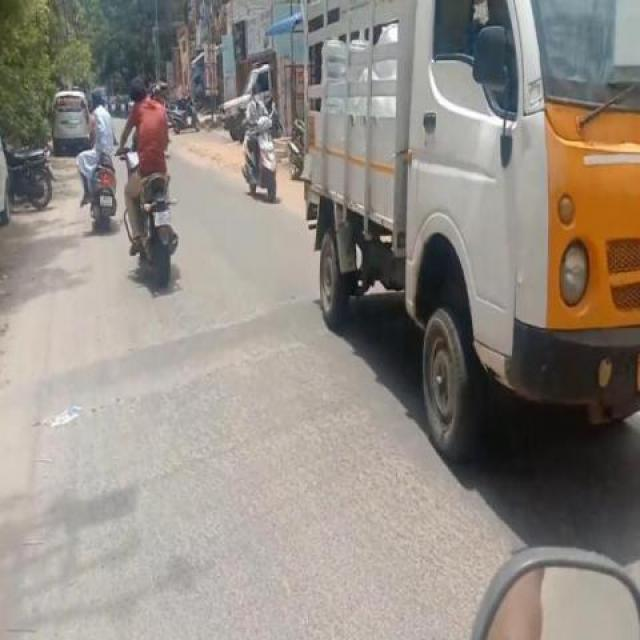Unmarked Bump: (10, 297, 321, 420)
